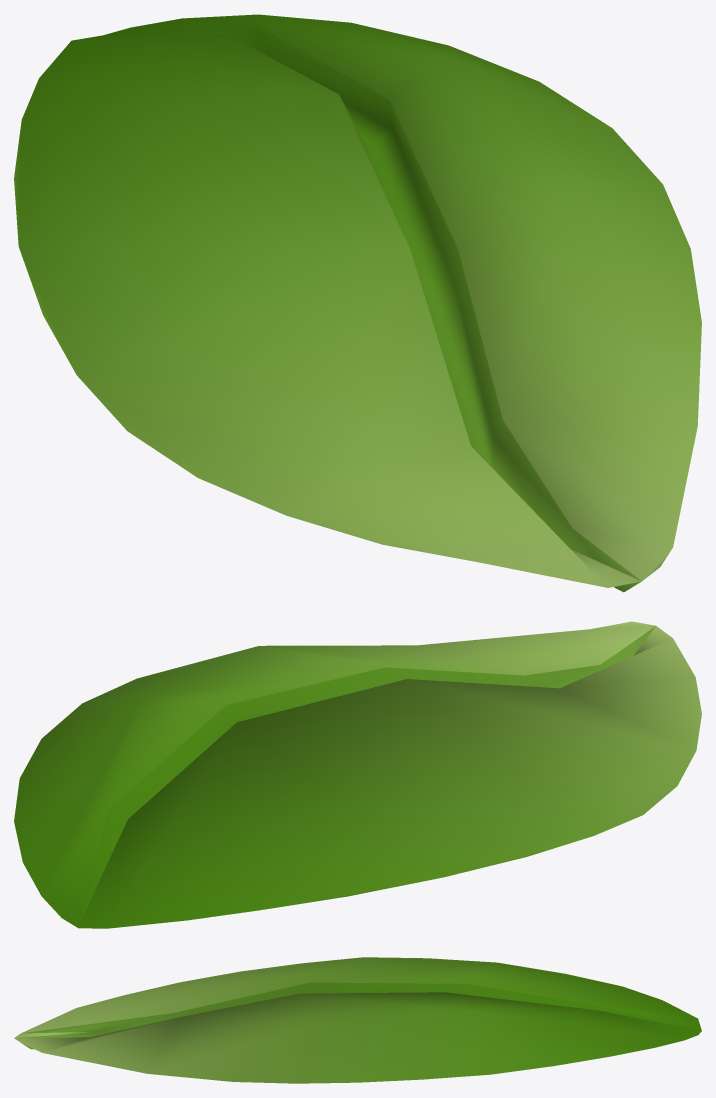
The model's file is leaf.glb.
The picture shows the model from 3 angles, top to bottom: view 1: azimuth 30°, elevation 25°; view 2: azimuth 150°, elevation 25°; view 3: azimuth 270°, elevation 25°; orthographic projection. The views are drawn at different scales.
Visible parts, largest first — view 1: leaf; view 2: leaf; view 3: leaf.
Part boxes in pixels (left/top/right/bottom): leaf: left=14, top=14, right=701, bottom=592; leaf: left=14, top=621, right=701, bottom=928; leaf: left=14, top=957, right=701, bottom=1083.
Size of the model in its own units: 0.0569 by 0.0173 by 0.1048.
1 material, 1 textured.
